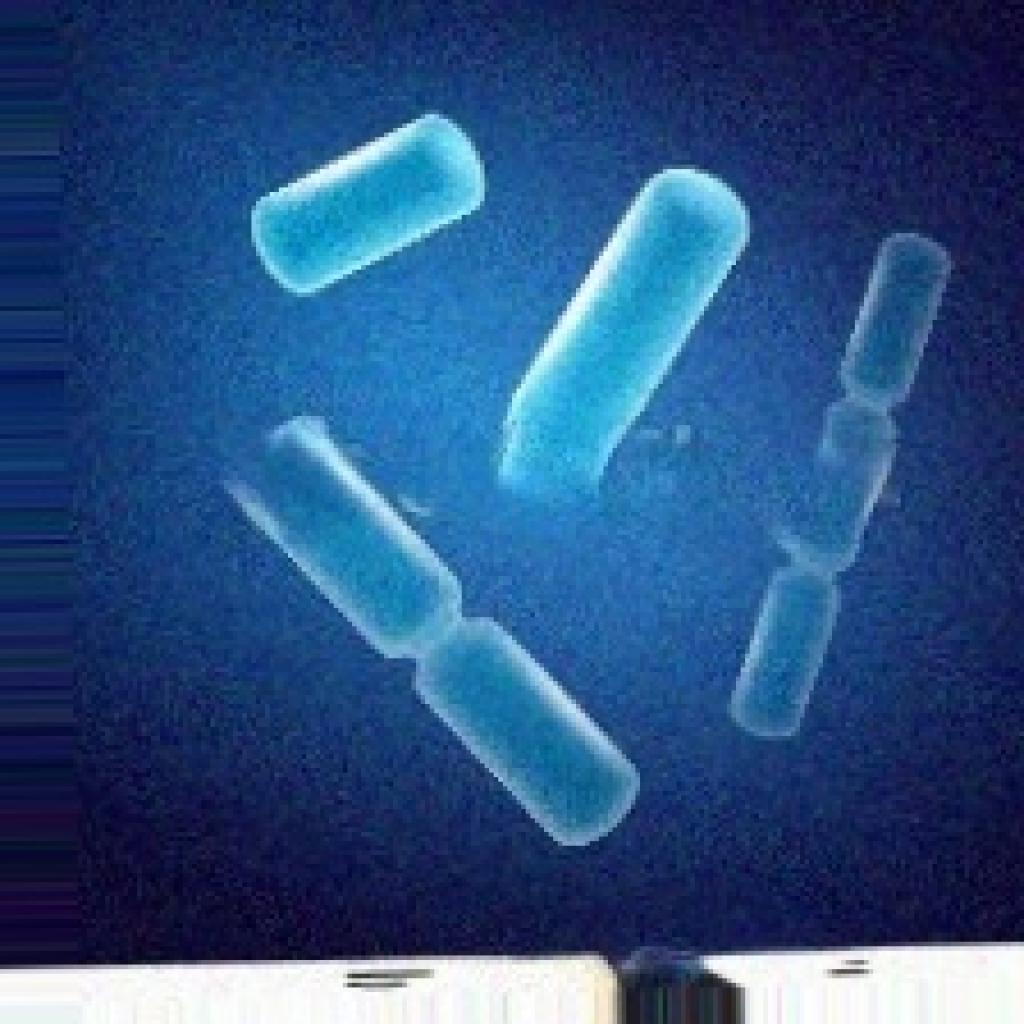Rodbacteria: (215, 407, 640, 846), (722, 224, 951, 741), (489, 160, 750, 507), (192, 97, 507, 295)
